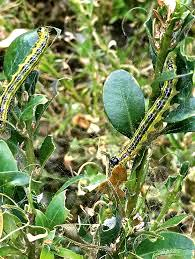Caterpillar: (104, 58, 180, 176), (1, 27, 51, 129)
Helopeltis-Withered Sprout: (51, 223, 99, 254), (163, 0, 176, 25), (113, 185, 127, 201)
